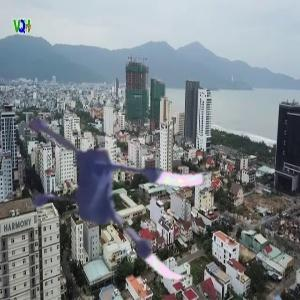drone: (7, 77, 230, 300)
